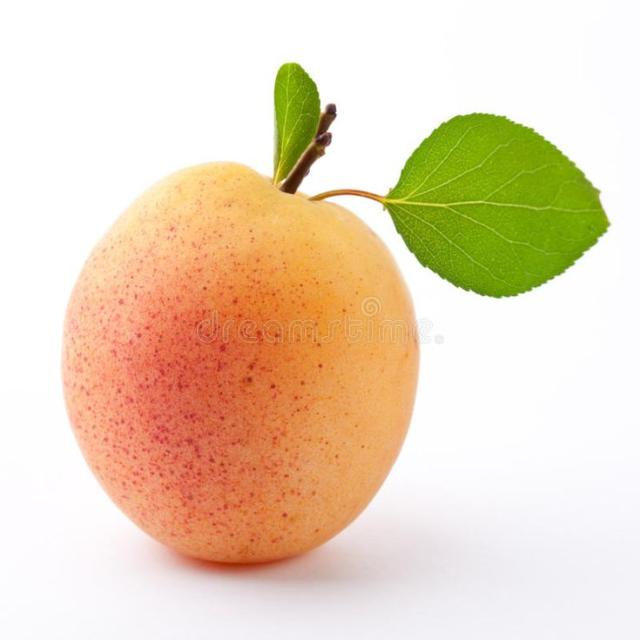kayisi: (61, 164, 416, 563)
kayisiyapragi: (375, 114, 612, 300), (273, 63, 320, 186)
